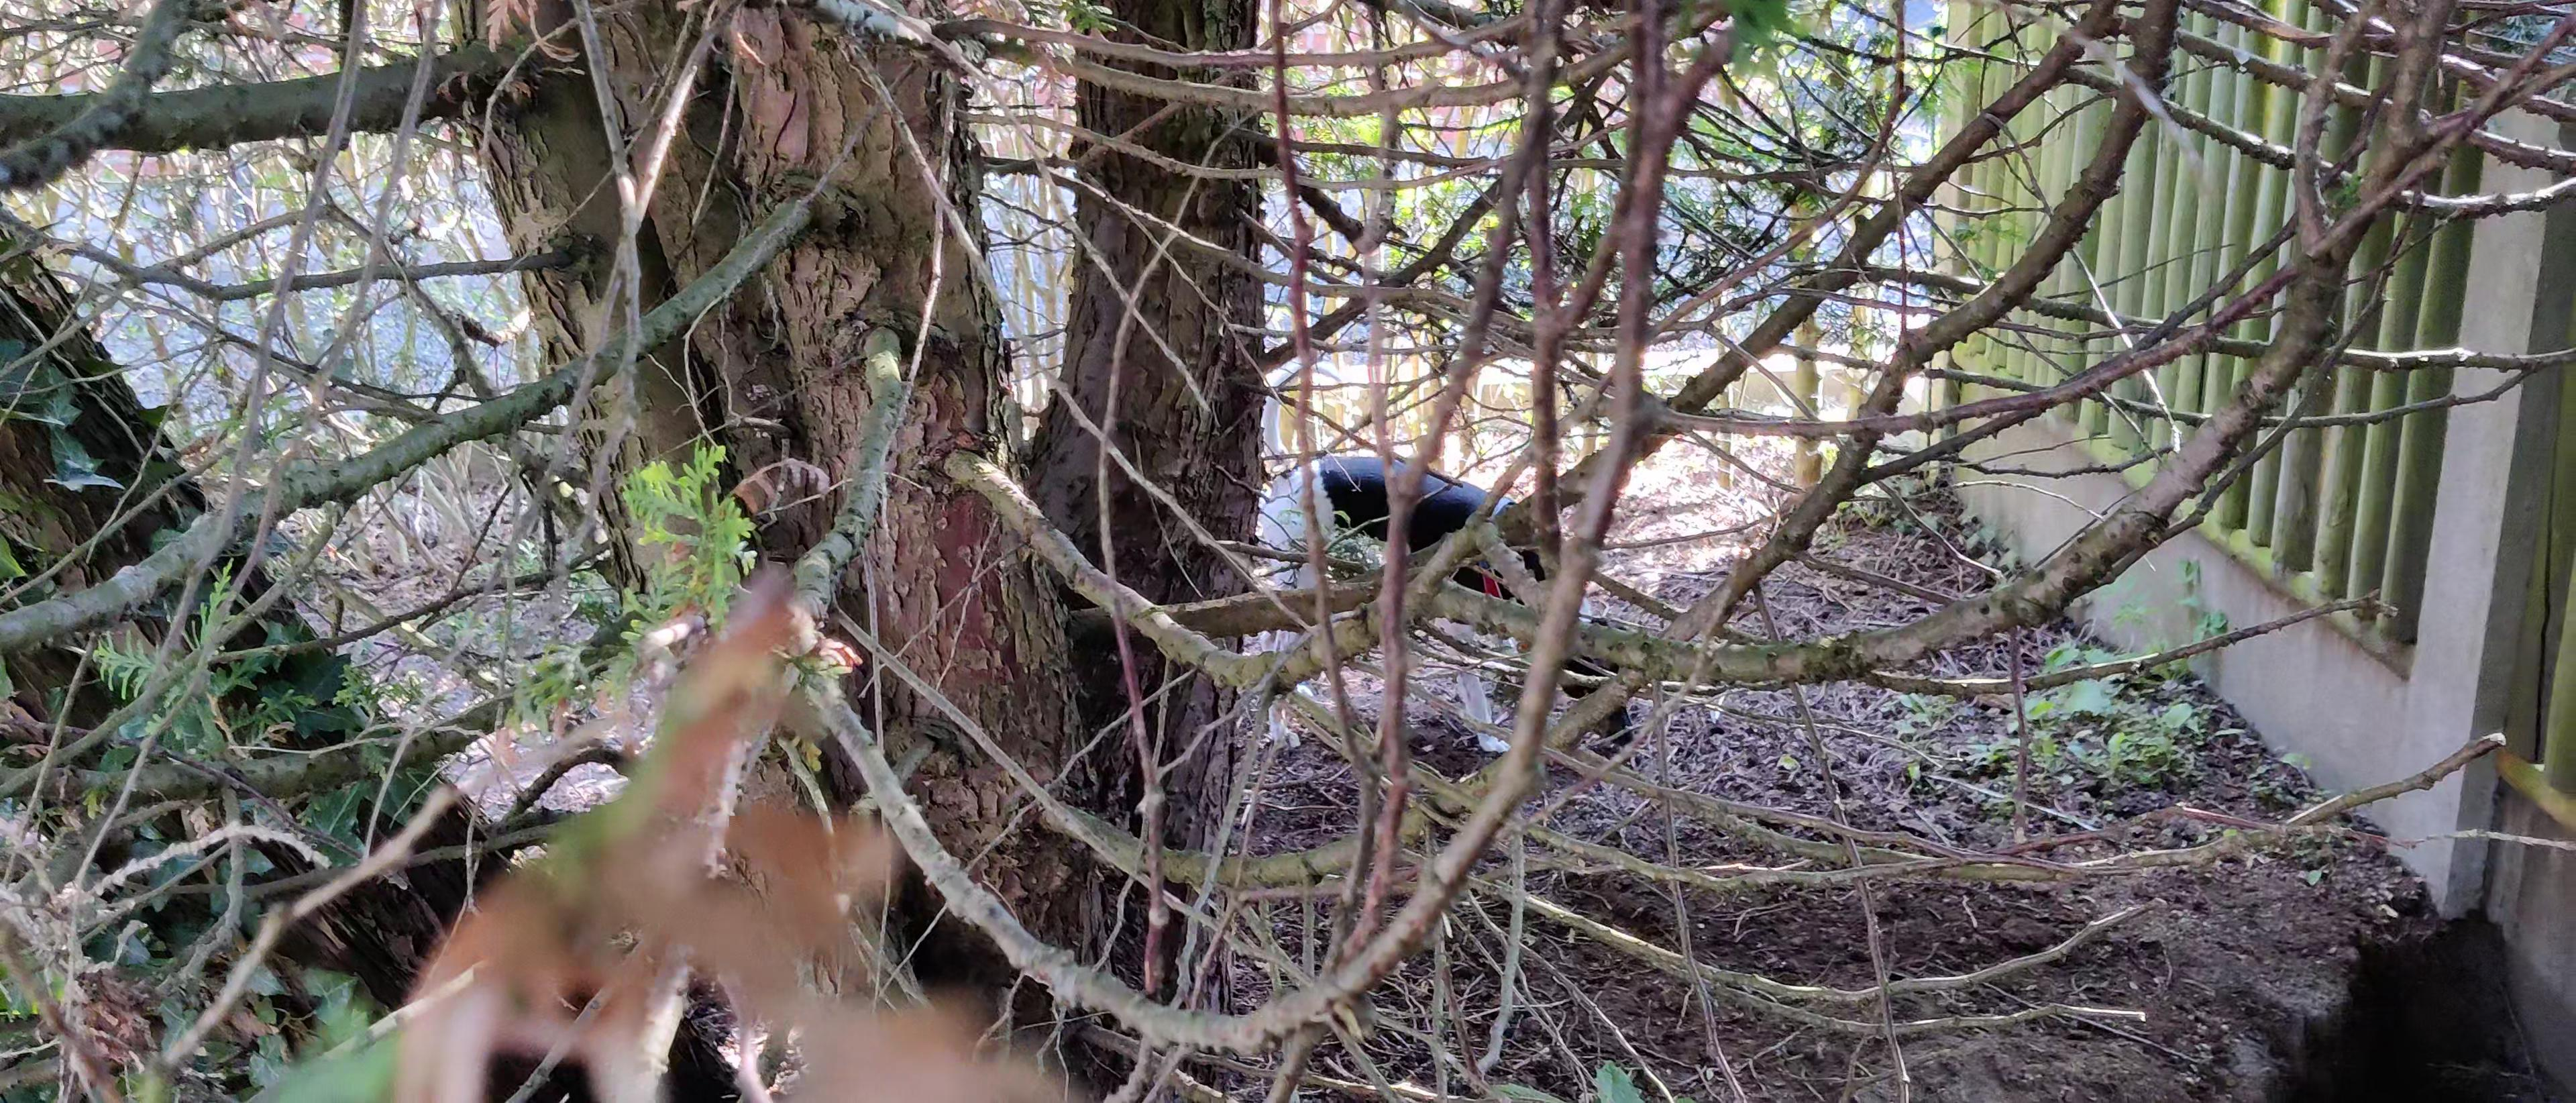Dog: (1245, 348, 1658, 761)
